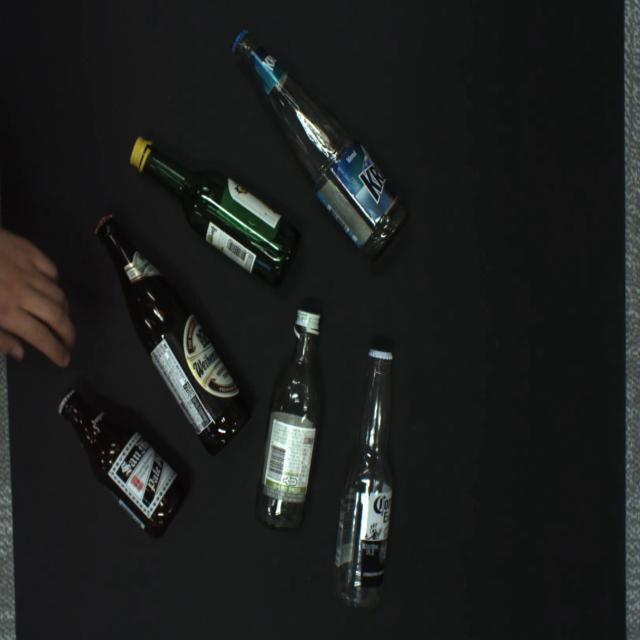beer-bottle: (230, 29, 410, 262), (96, 216, 251, 456), (58, 390, 187, 540), (333, 348, 393, 612)
soju-bottle: (130, 136, 298, 287), (253, 310, 323, 533)
